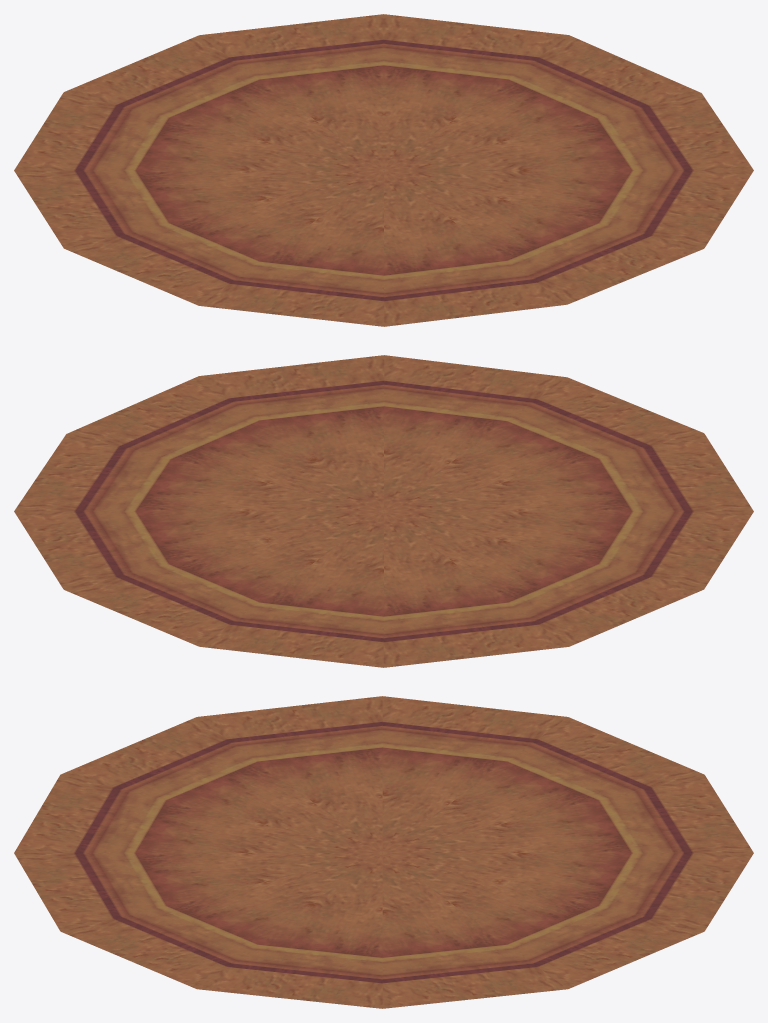
The model's file is launcherdoor-maincave-lod1.glb.
The picture shows the model from 3 angles, top to bottom: view 1: azimuth 30°, elevation 25°; view 2: azimuth 150°, elevation 25°; view 3: azimuth 270°, elevation 25°; orthographic projection.
Parts seen in each view (by area): view 1: launcherdoor-maincave-lod1; view 2: launcherdoor-maincave-lod1; view 3: launcherdoor-maincave-lod1.
Boxes of the visible parts, bbox=[...] form: launcherdoor-maincave-lod1: bbox=[14, 14, 753, 326]; launcherdoor-maincave-lod1: bbox=[14, 355, 753, 667]; launcherdoor-maincave-lod1: bbox=[14, 696, 753, 1008].
Bounding box in the file's own units: 7.25 × 0 × 7.25.
Materials: 1 (1 with a texture image).
